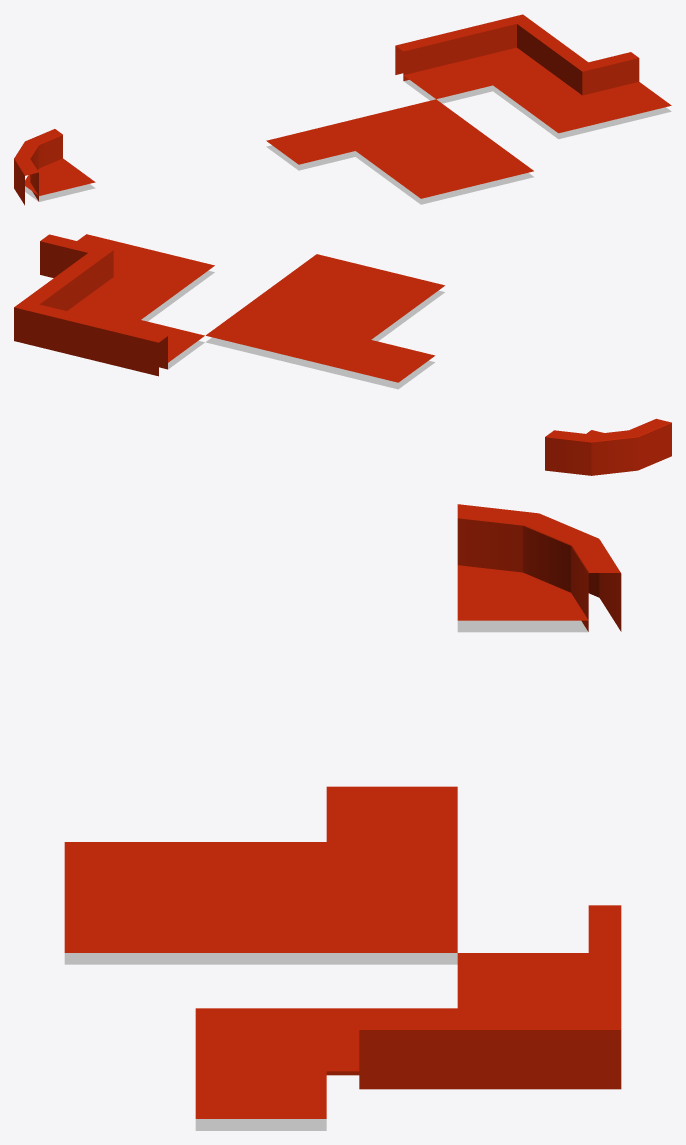
File: roof.fbx
3 renders of one model, top to bottom at view 1: azimuth 30°, elevation 25°; view 2: azimuth 150°, elevation 25°; view 3: azimuth 270°, elevation 25°, orthographic. The views are drawn at different scales.
Visible parts, largest first — view 1: roof_angle_c, roof_2, roof_angle_a, roof, roof_3, roof_angle_b, roof_1; view 2: roof_2, roof_angle_c, roof_3, roof_angle_b, roof_angle_a, roof, roof_1; view 3: roof_2, roof_angle_c, roof_angle_b, roof_angle_a, roof_3, roof, roof_1.
Part boxes in pixels (x1,y1,x2,y2): roof_angle_c: (493, 44, 671, 139); roof_2: (356, 123, 534, 204); roof_angle_a: (452, 14, 563, 91); roof: (395, 32, 492, 103); roof_3: (266, 113, 411, 170); roof_angle_b: (14, 129, 95, 205); roof_1: (380, 99, 468, 136); roof_2: (243, 254, 444, 341); roof_angle_c: (40, 234, 214, 321); roof_3: (270, 324, 435, 389); roof_angle_b: (545, 418, 671, 475); roof_angle_a: (14, 273, 140, 360); roof: (94, 320, 204, 376); roof_1: (205, 308, 306, 357); roof_2: (64, 842, 326, 964); roof_angle_c: (195, 1008, 457, 1130); roof_angle_b: (457, 504, 621, 632); roof_angle_a: (457, 960, 621, 1089); roof_3: (326, 786, 457, 897); roof: (457, 905, 621, 1008); roof_1: (326, 897, 457, 964).
Size of the model in its own units: 20.5 by 1 by 8.5.
